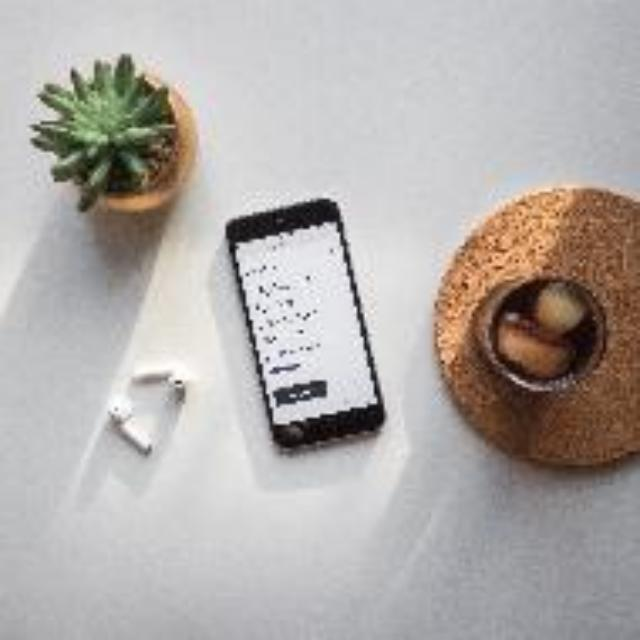phone: (211, 180, 393, 464)
